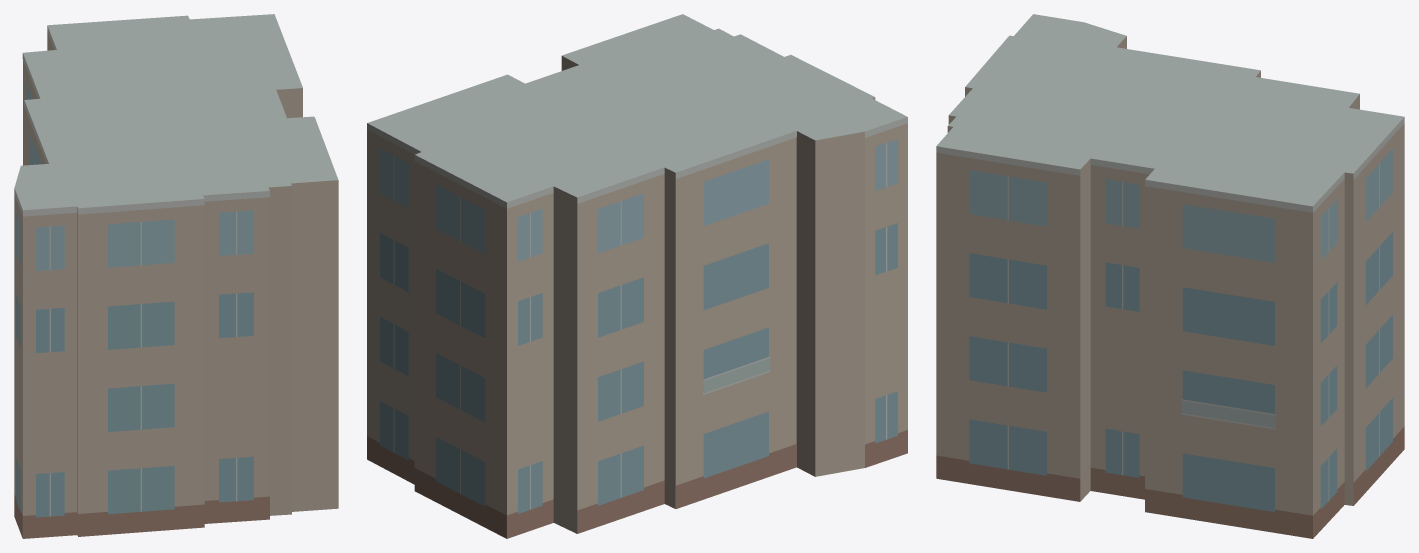
Rendered from survey-upis-32656550.glb.
The picture shows the model from 3 angles, left to right: view 1: azimuth 30°, elevation 25°; view 2: azimuth 150°, elevation 25°; view 3: azimuth 270°, elevation 25°; orthographic projection. The views are drawn at different scales.
Parts seen in each view (by area): view 1: survey-upis-32656550.tmp; view 2: survey-upis-32656550.tmp; view 3: survey-upis-32656550.tmp.
Part boxes in pixels (x1,y1,x2,y2): survey-upis-32656550.tmp: (14,14,338,538); survey-upis-32656550.tmp: (367,14,907,538); survey-upis-32656550.tmp: (936,14,1404,538).
Bounding box in the file's own units: 15.82 × 12.73 × 16.27.
